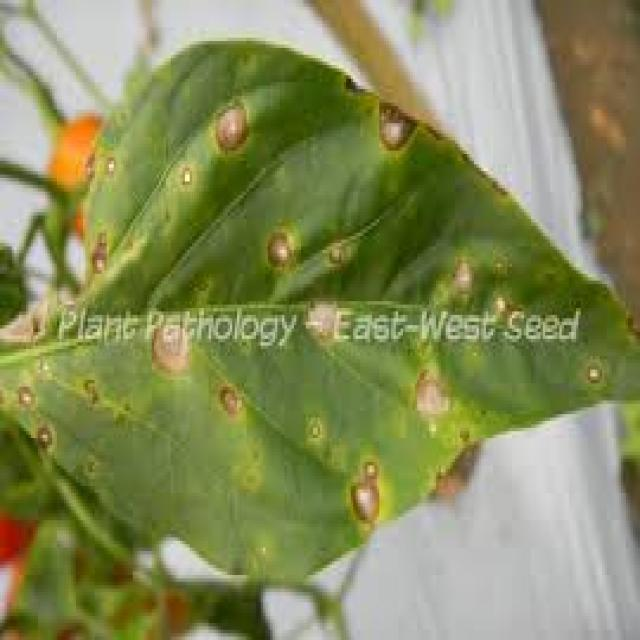bercak_daun: (72, 26, 554, 321)
